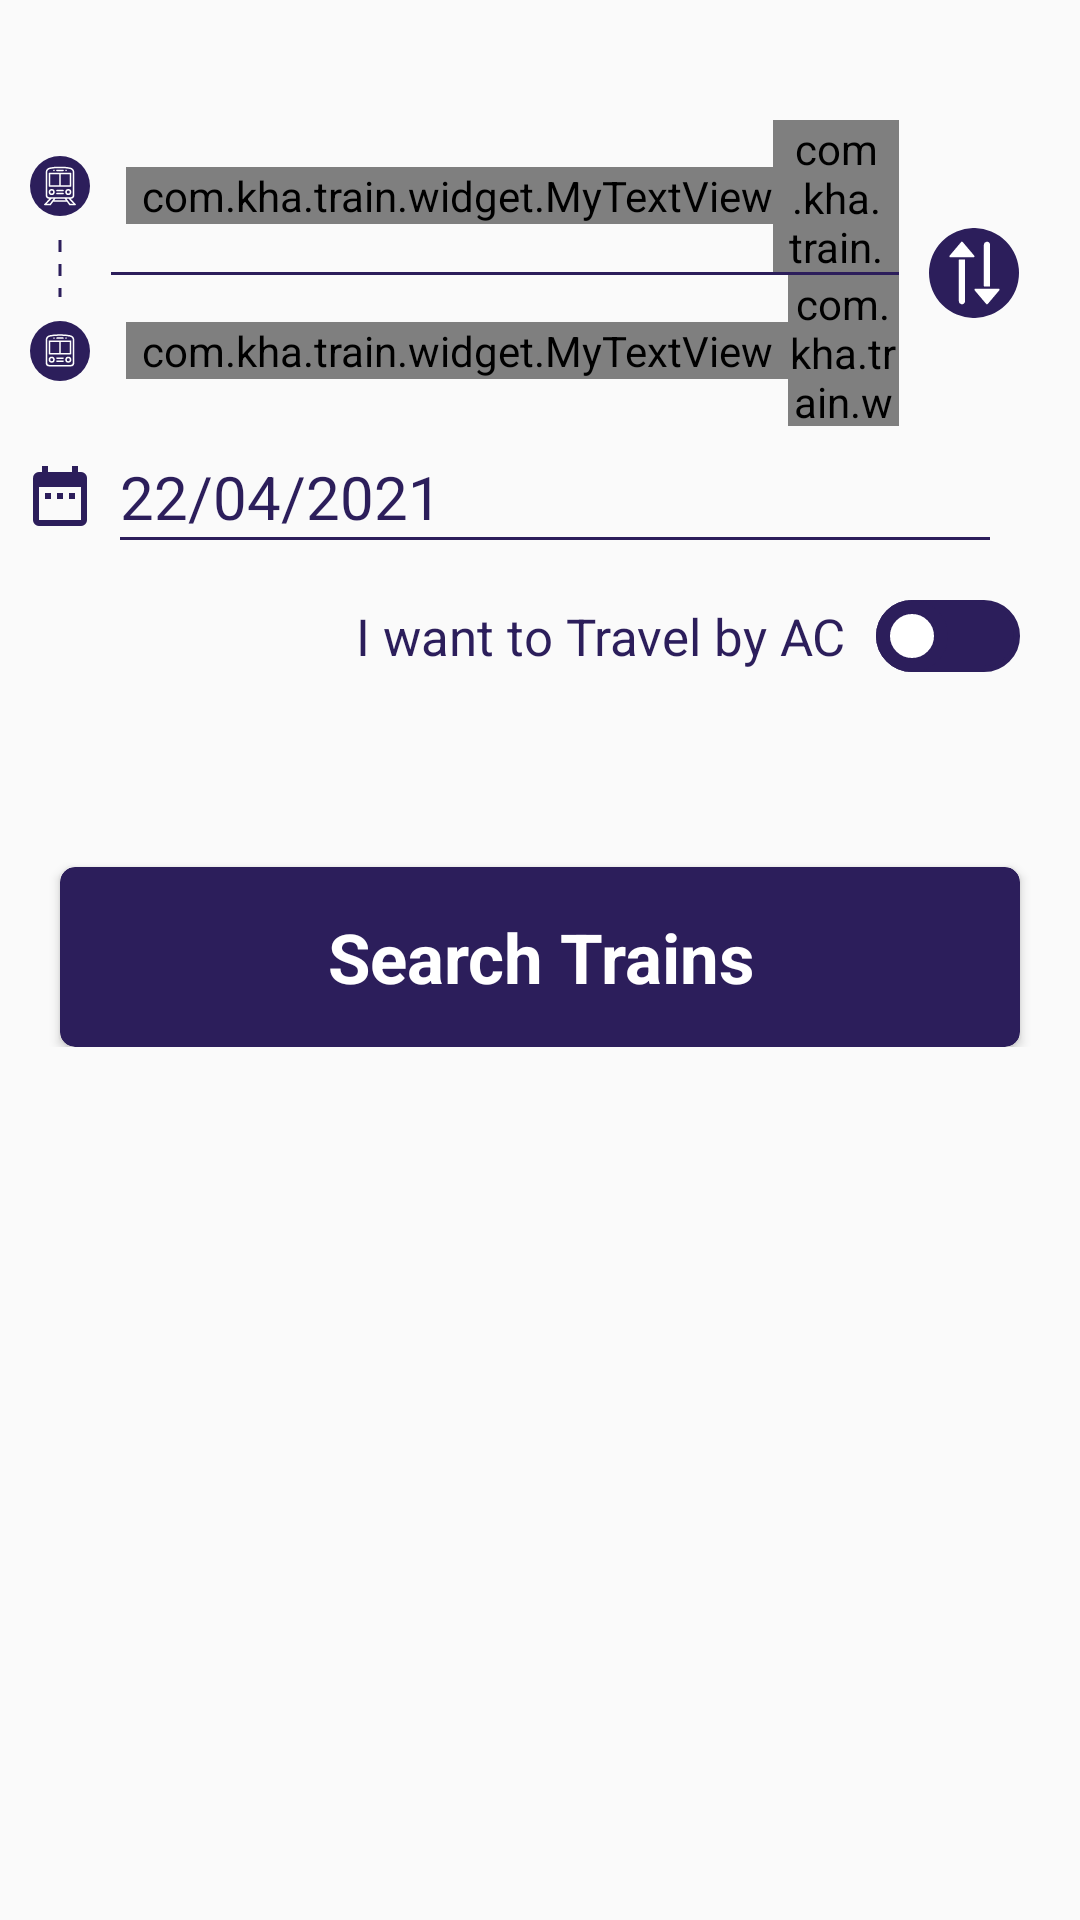

Icons on this 1080x1920 Android screen, each with its box as region(x1, y1, x2, y2):
calender: region(33, 466, 87, 526)
up down: region(929, 228, 1019, 318)
